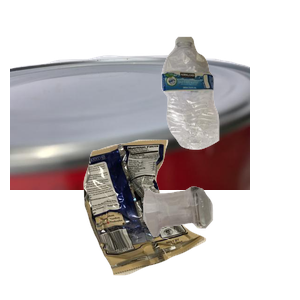glass: (141, 184, 300, 300)
metal: (10, 52, 250, 232)
plastic: (159, 34, 300, 176)
trash: (81, 137, 280, 300)
